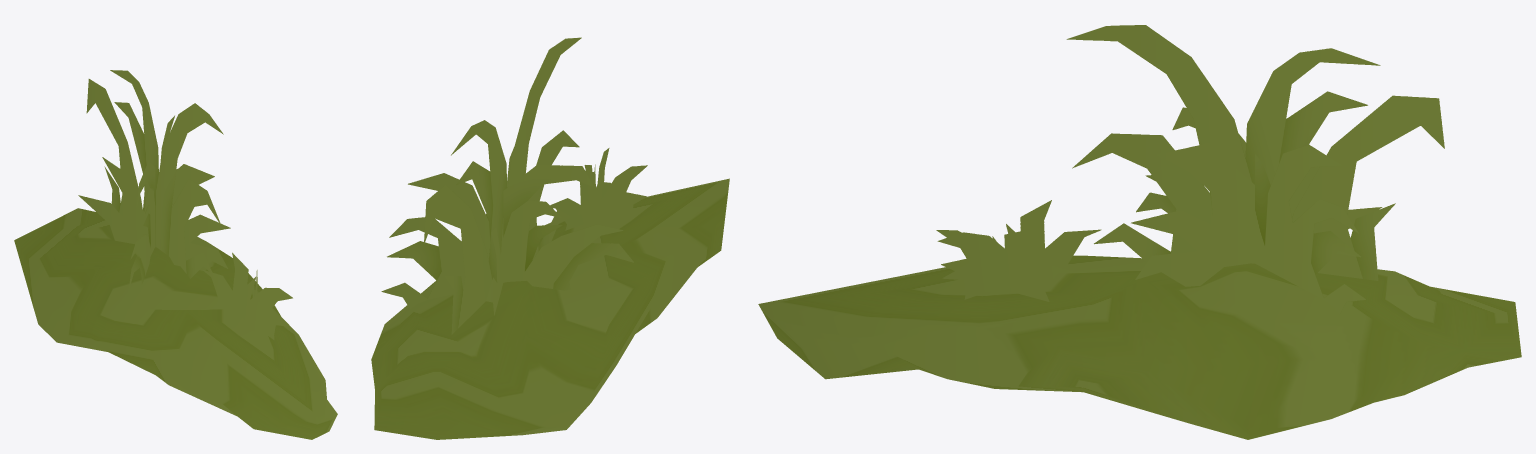
The model's file is SM_Env_Grass_Blob_01.fbx.
3 renders of one model, left to right at view 1: azimuth 30°, elevation 25°; view 2: azimuth 150°, elevation 25°; view 3: azimuth 270°, elevation 25°, orthographic. The views are drawn at different scales.
Visible parts, largest first — view 1: SM_Env_Grass_Blob_01; view 2: SM_Env_Grass_Blob_01; view 3: SM_Env_Grass_Blob_01.
Part boxes in pixels (left/top/right/bottom): SM_Env_Grass_Blob_01: left=14, top=70, right=337, bottom=439; SM_Env_Grass_Blob_01: left=371, top=37, right=729, bottom=439; SM_Env_Grass_Blob_01: left=758, top=25, right=1521, bottom=439.
Bounding box in the file's own units: 28.58 × 45.5 × 81.29.
